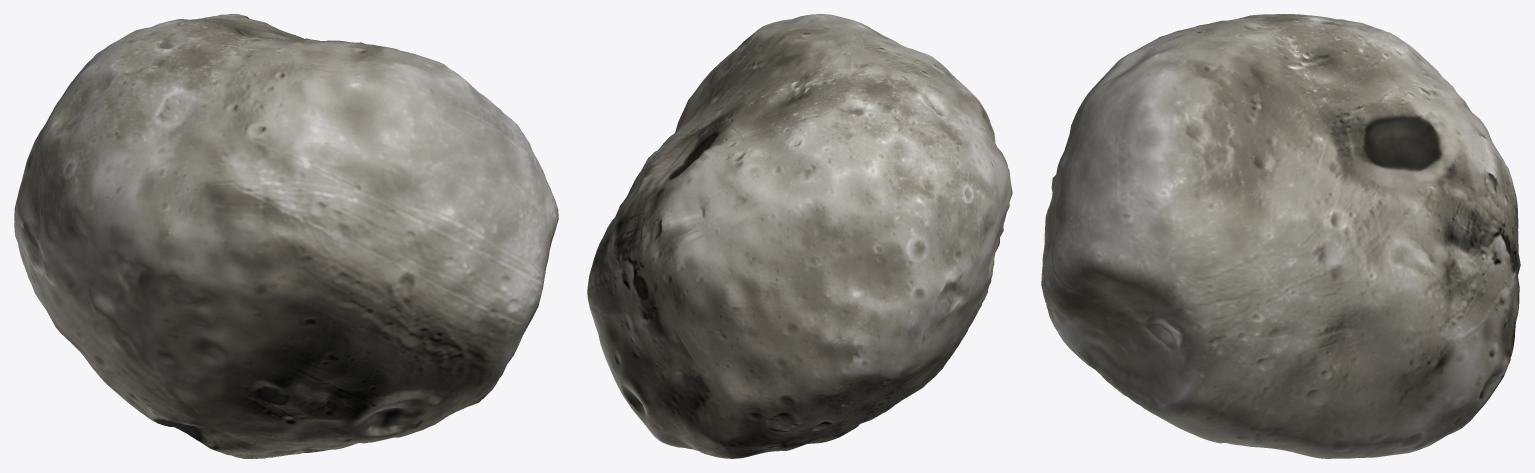
File: phobos_1k.glb
3 views of the same model, side by side, from view 1: azimuth 30°, elevation 25°; view 2: azimuth 150°, elevation 25°; view 3: azimuth 270°, elevation 25° (orthographic). The views are drawn at different scales.
Parts seen in each view (by area): view 1: phobos_0_1; view 2: phobos_0_1; view 3: phobos_0_1.
Part boxes in pixels (box(x1,y1,x2,y2)): phobos_0_1: box(14, 14, 558, 458); phobos_0_1: box(587, 14, 1012, 458); phobos_0_1: box(1041, 14, 1520, 458).
Size of the model in its own units: 4.86 by 4.71 by 5.39.
Materials: 1 (1 with a texture image).
